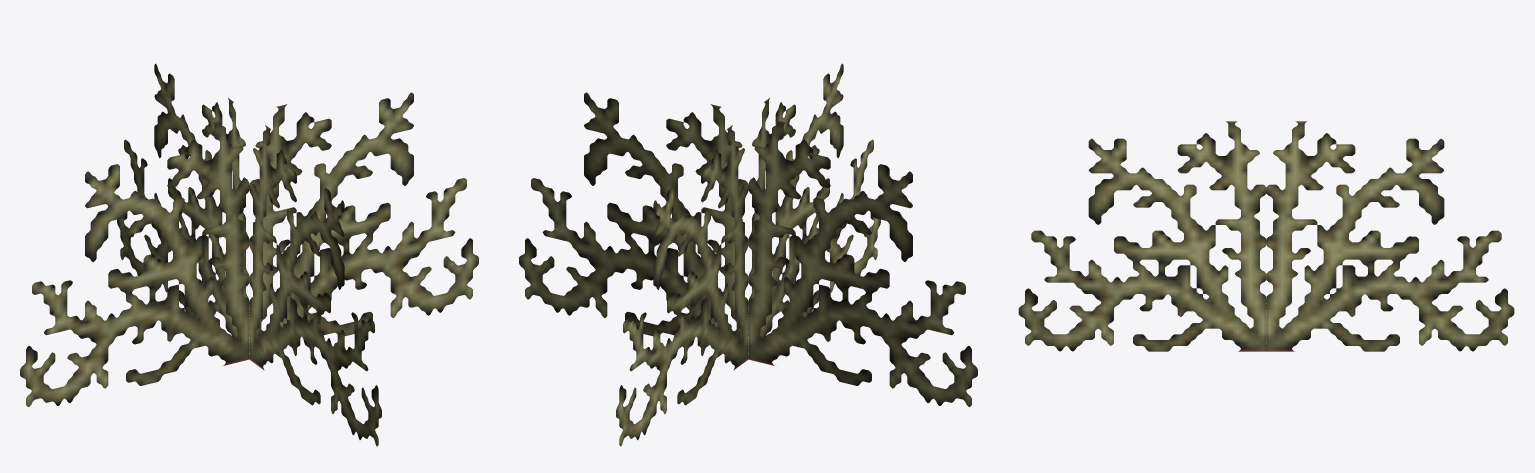
3 renders of one model, left to right at view 1: azimuth 30°, elevation 25°; view 2: azimuth 150°, elevation 25°; view 3: azimuth 270°, elevation 25°, orthographic. The views are drawn at different scales.
Parts seen in each view (by area): view 1: T1L8M008_18; view 2: T1L8M008_18; view 3: T1L8M008_18.
Part boxes in pixels (x1,y1,x2,y2): T1L8M008_18: (20, 63, 478, 446); T1L8M008_18: (519, 63, 977, 446); T1L8M008_18: (1018, 121, 1514, 351).
Size of the model in its own units: 2 by 1 by 2.
Materials: 1 (1 with a texture image).
